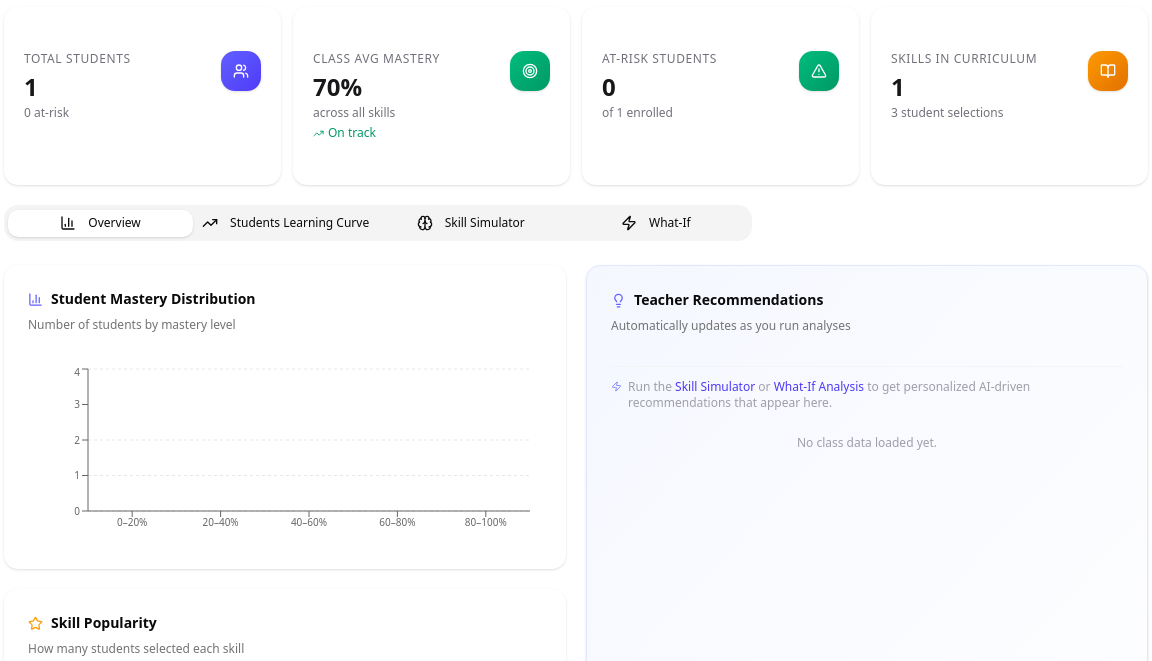
Test: TeacherTwinPage › keeps manual what-if teacher controlled
Click the tab "What-If": [656, 223] box [563,210,748,236]
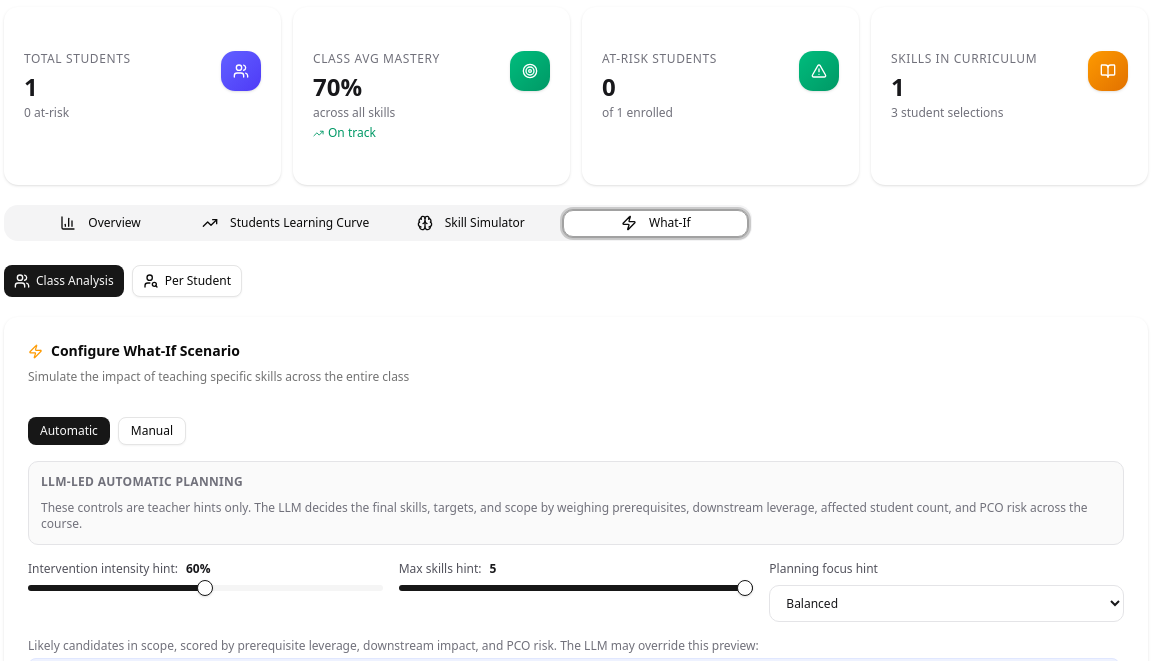
Click the button "Manual": [152, 431] box [118,417,186,445]
(page scrolled)
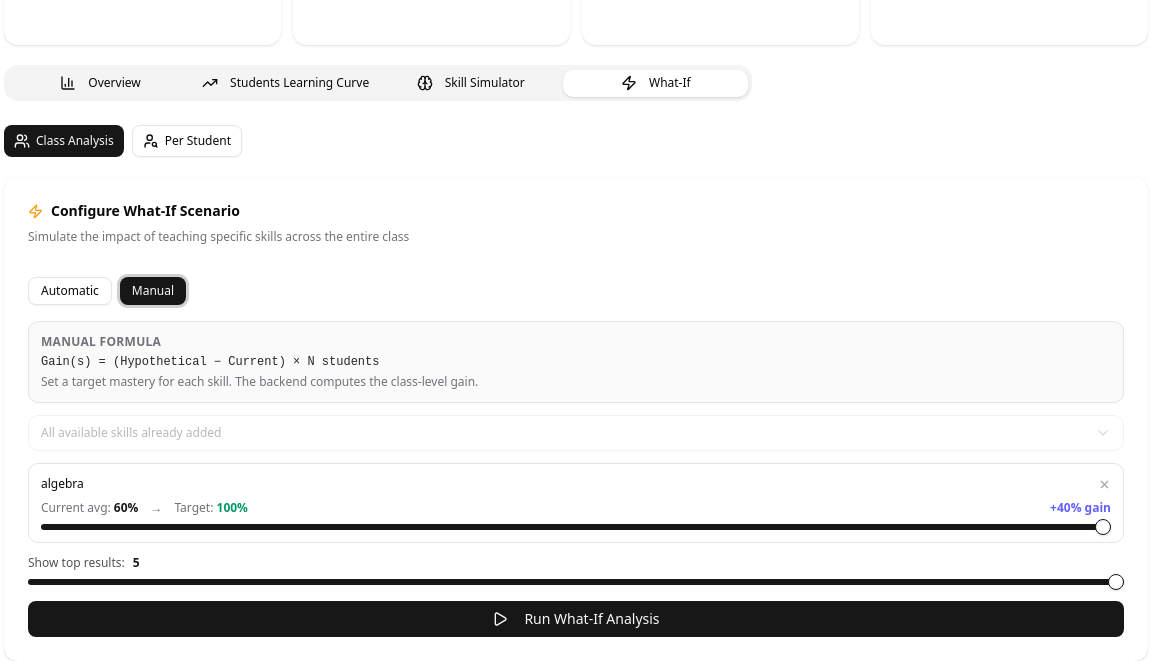
Check: the text "Set a target mastery for each skill" is shown, box [41,373,478,390]
Check: the text "Show top results: 5" is shown, box [28,554,140,571]
